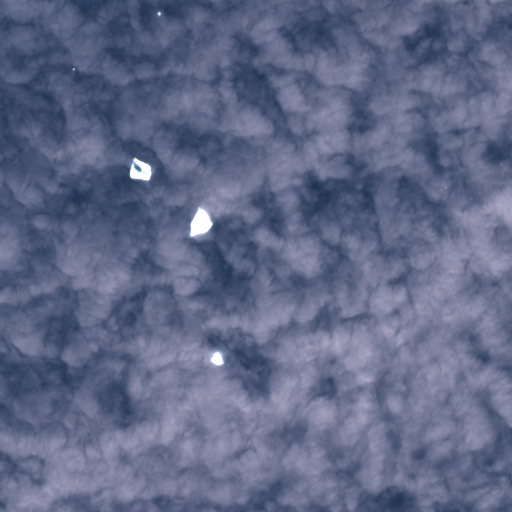Iceberg: (189, 207, 212, 236), (129, 158, 152, 180), (210, 351, 223, 365), (157, 11, 161, 15), (72, 68, 74, 70), (445, 187, 446, 188)
